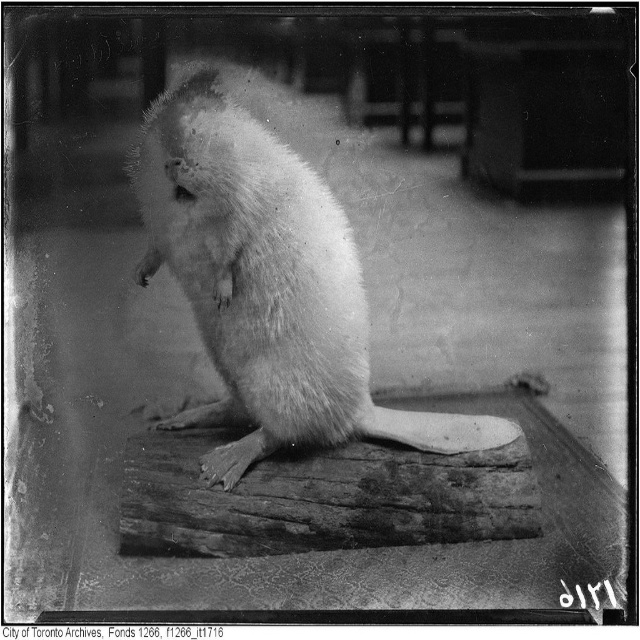Mouse: (133, 91, 366, 483)
